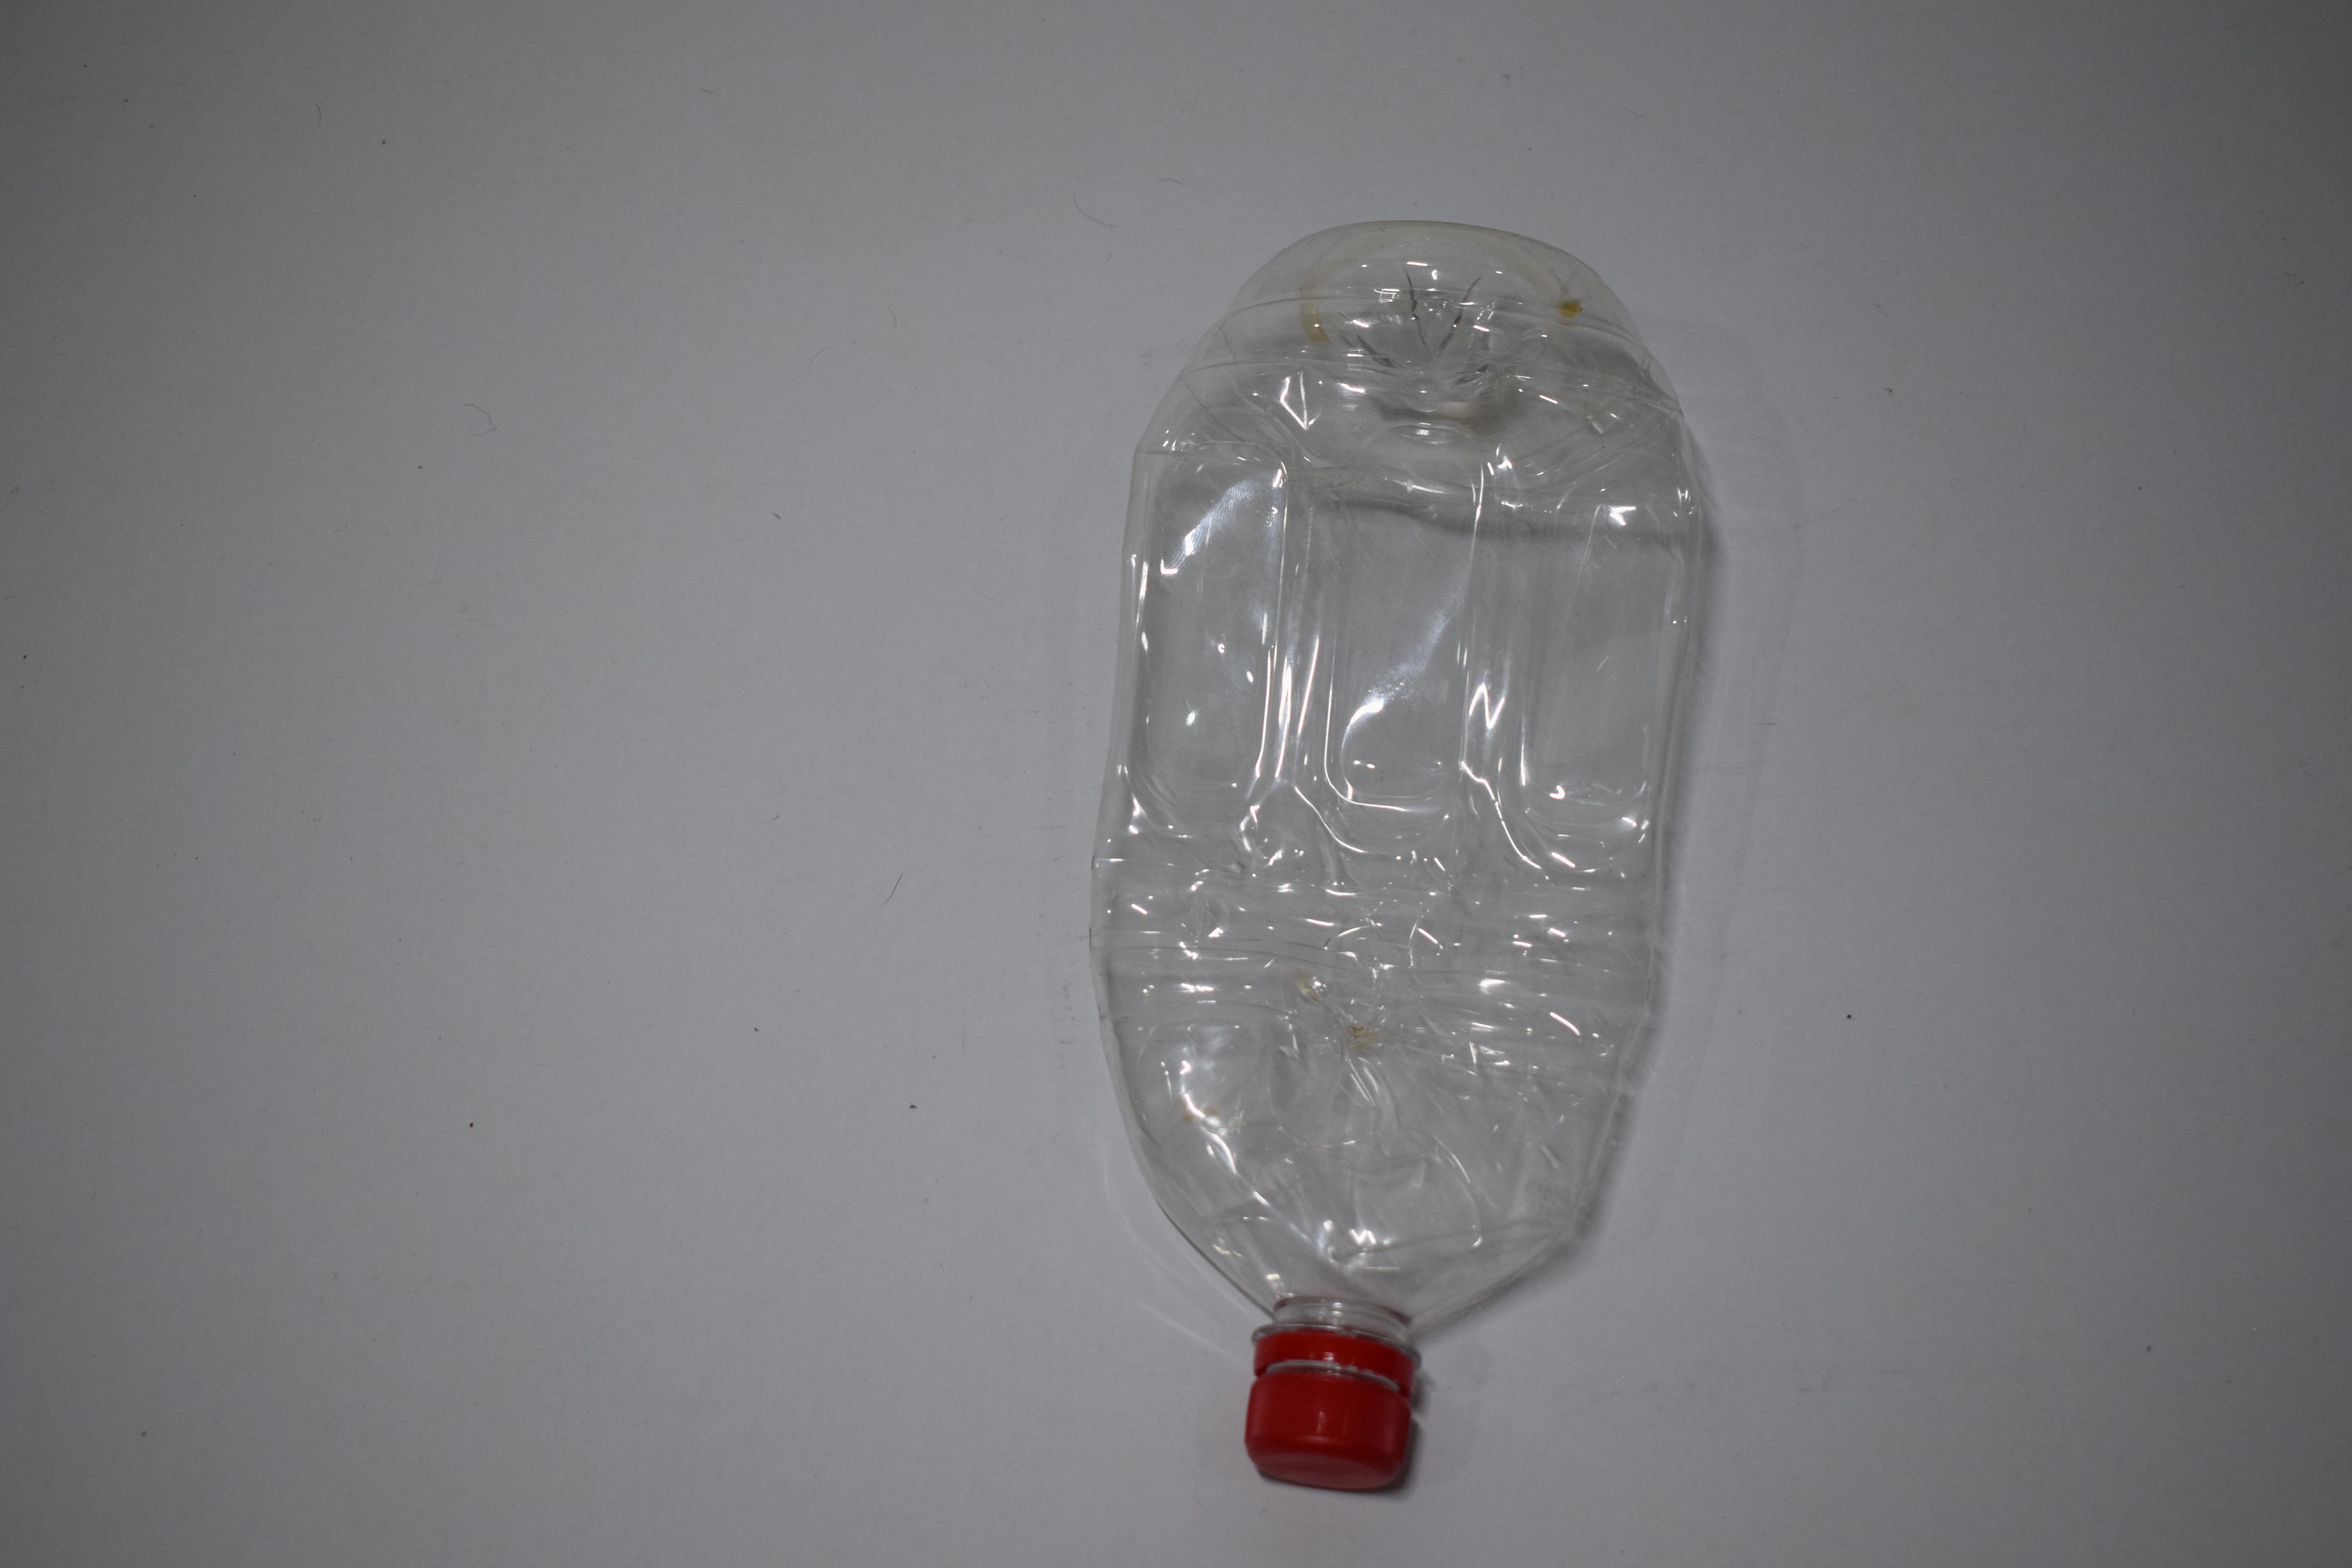bottle: (1094, 0, 1732, 721)
